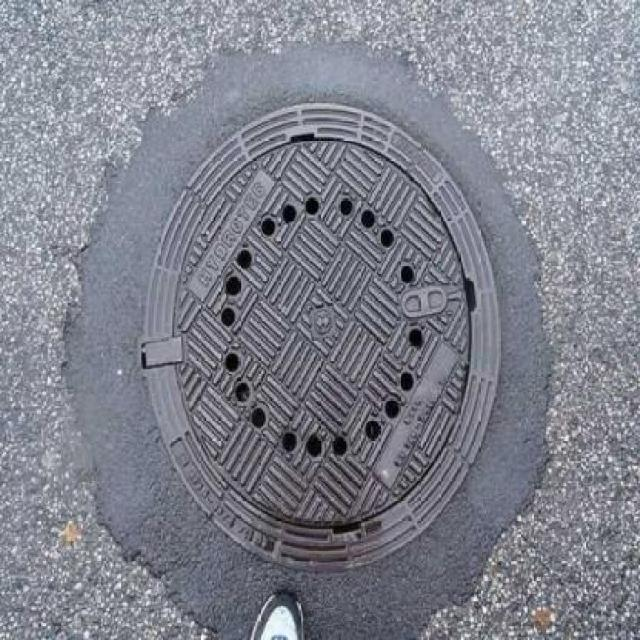Manhole: (136, 94, 507, 578)
